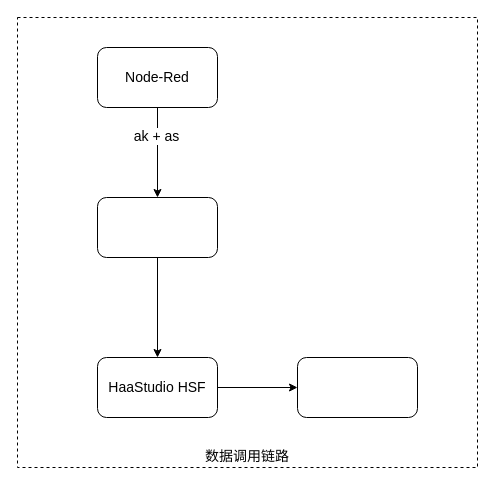
Some shapes in this 495 by 485 pixel diagram are drawn without their labels. The centre of each missing label's shape, as x and y in pixels:
"API网关" belongs at [157,227].
"LP HSF" belongs at [357,387].
